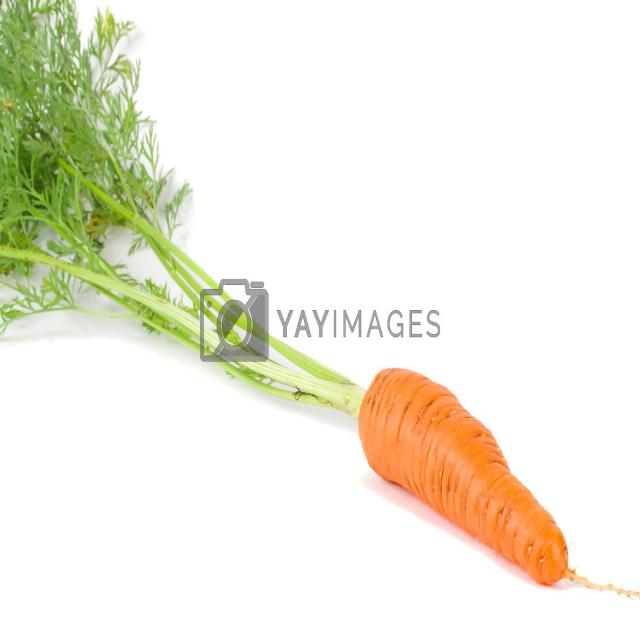Carrot: (360, 366, 640, 600)
